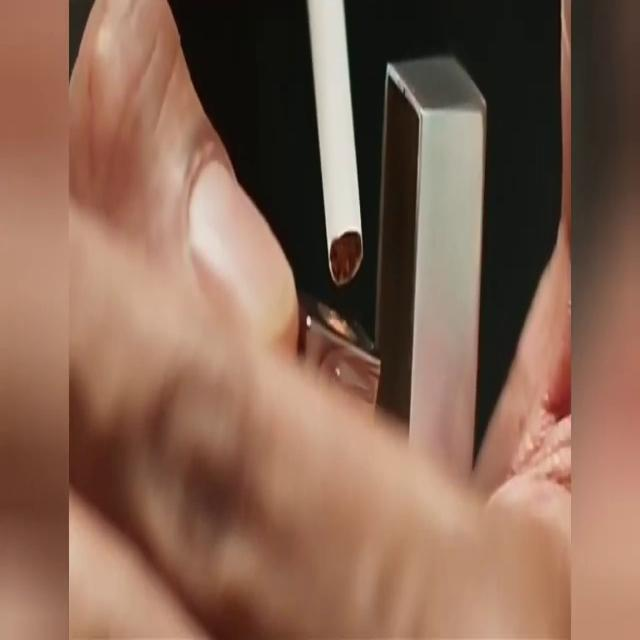smoking: (278, 18, 474, 403)
